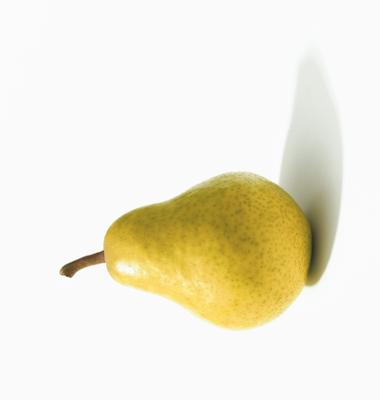pear: (0, 0, 380, 400)
